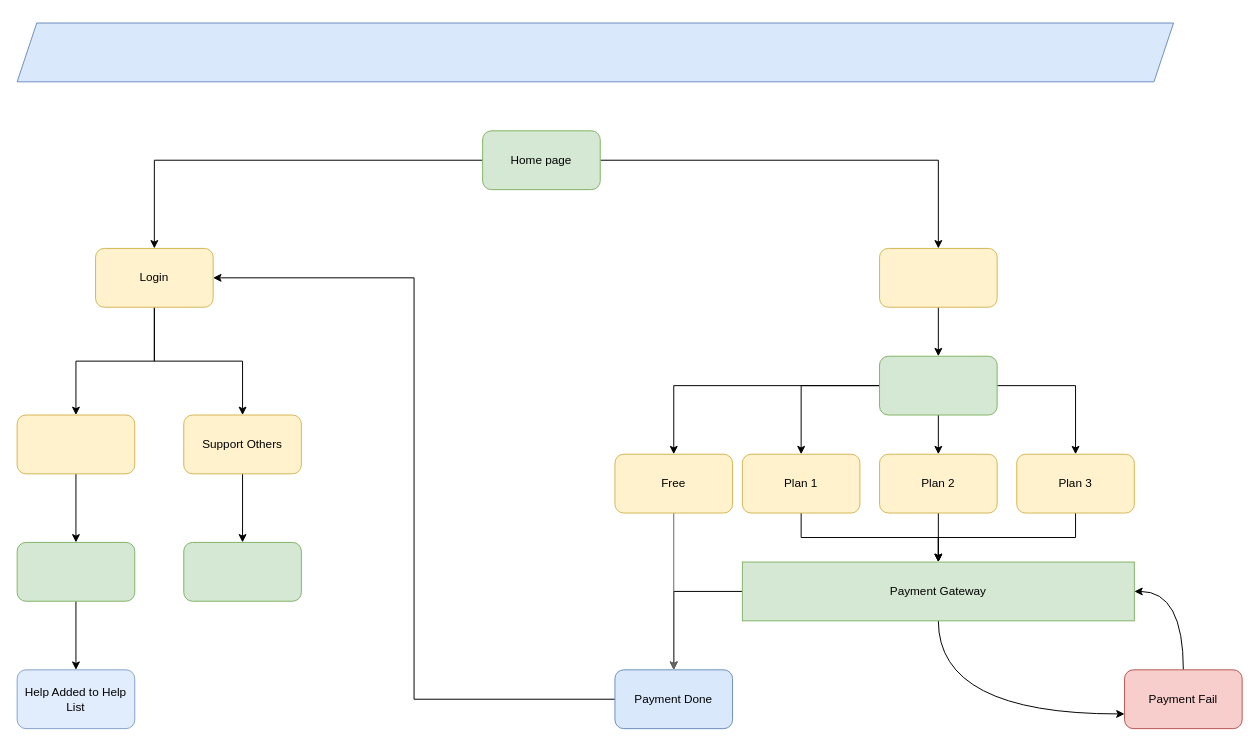
The diagram is 1259 pixels wide and 746 high, and some of its shapes have lost their labels. The box of each missing label's shape, as (x1, y1, x2, y2) in pixels:
Choose Plan: (879, 355, 997, 415)
Get Help: (16, 414, 135, 474)
Help Info: (16, 541, 135, 601)
List of pending helps: (183, 541, 301, 601)
Scholarship Point: (16, 22, 1174, 82)
Signup: (879, 247, 997, 307)
